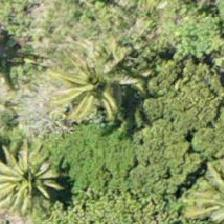coconut_tree: (54, 36, 144, 126), (0, 130, 70, 220)
